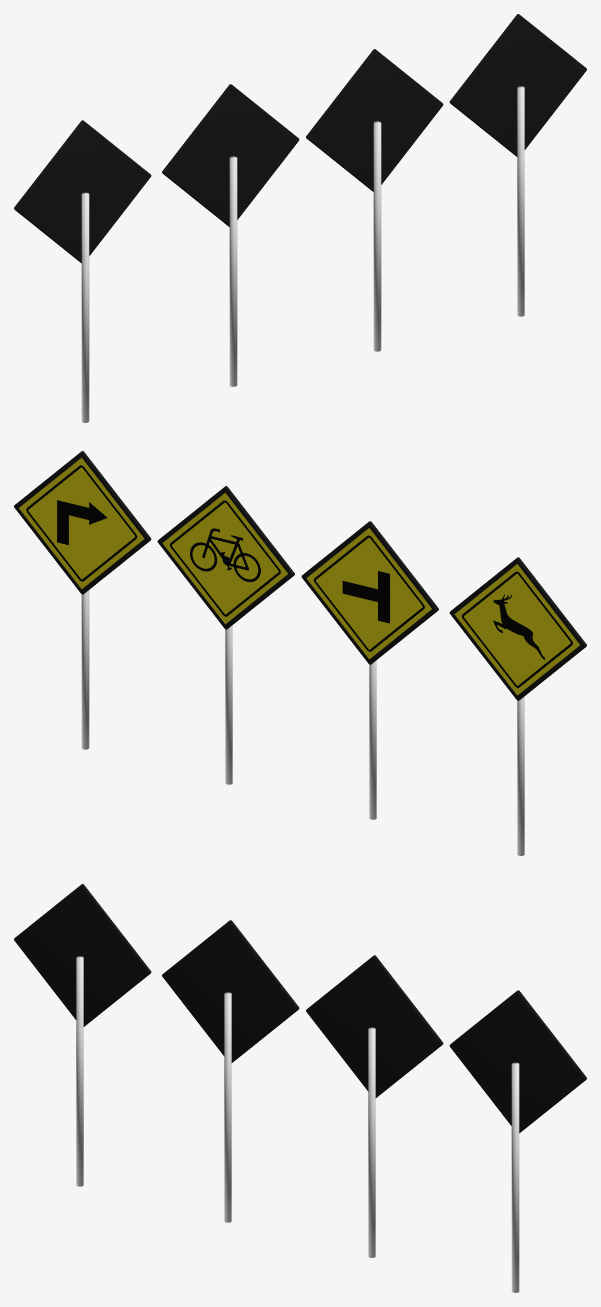
Rendered from Road_sign.glb.
3 views of the same model, one above another, from view 1: azimuth 30°, elevation 25°; view 2: azimuth 150°, elevation 25°; view 3: azimuth 330°, elevation 25° (orthographic).
Parts seen in each view (by area): view 1: Cylinder.002, Cylinder.001, Cylinder.003, Cylinder; view 2: Cylinder, Cylinder.002, Cylinder.001, Cylinder.003; view 3: Cylinder, Cylinder.001, Cylinder.003, Cylinder.002.
Boxes of the visible parts, bbox=[...] form: Cylinder.002: bbox=[162, 84, 299, 386]; Cylinder.001: bbox=[306, 49, 443, 351]; Cylinder.003: bbox=[14, 120, 151, 422]; Cylinder: bbox=[449, 14, 586, 316]; Cylinder: bbox=[14, 451, 151, 749]; Cylinder.002: bbox=[301, 521, 438, 819]; Cylinder.001: bbox=[157, 486, 294, 784]; Cylinder.003: bbox=[449, 557, 586, 855]; Cylinder: bbox=[449, 990, 586, 1292]; Cylinder.001: bbox=[306, 955, 443, 1257]; Cylinder.003: bbox=[14, 884, 151, 1186]; Cylinder.002: bbox=[162, 920, 299, 1222].
Size of the model in its own units: 5.27 by 2.63 by 0.0886.
Materials: 6 (4 with a texture image).
